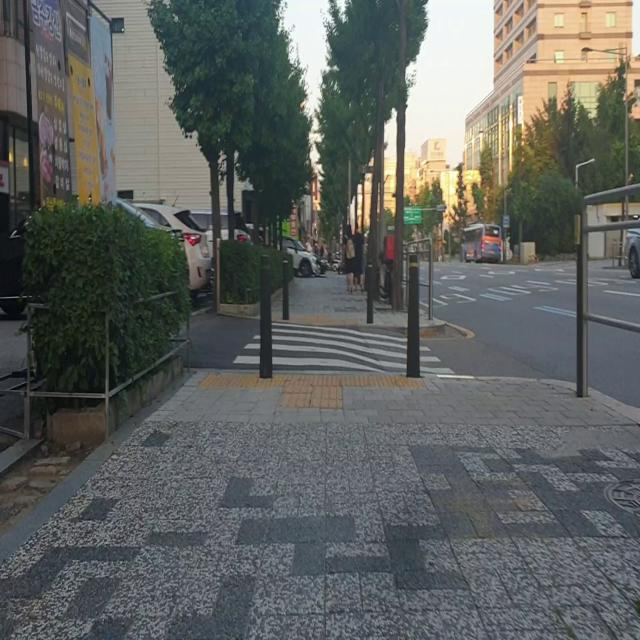횡단보도: (232, 320, 457, 375)
